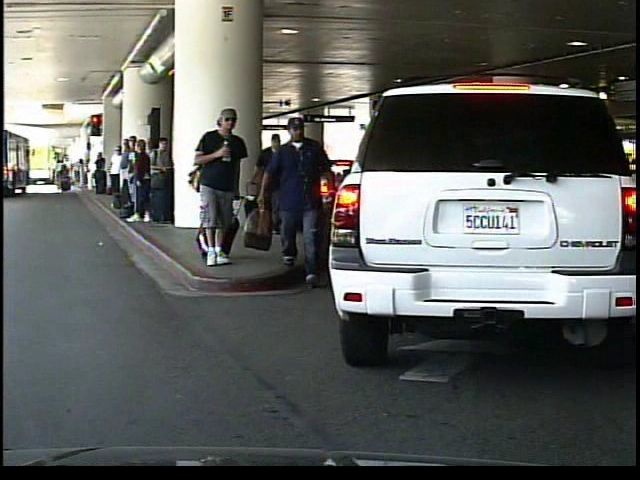person: (259, 100, 333, 279), (192, 104, 247, 268), (254, 135, 295, 239)
